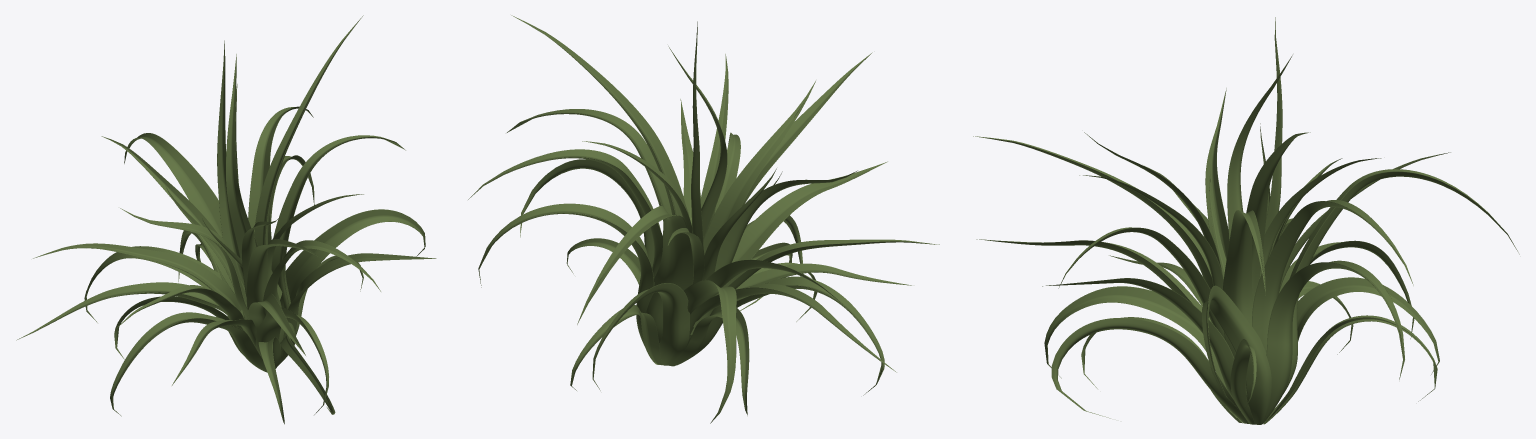
File: airplant3.gltf
3 renders of one model, left to right at view 1: azimuth 30°, elevation 25°; view 2: azimuth 150°, elevation 25°; view 3: azimuth 270°, elevation 25°, orthographic. The views are drawn at different scales.
Visible parts, largest first — view 1: Mesh_0, Mesh_1; view 2: Mesh_0, Mesh_1; view 3: Mesh_0, Mesh_1.
Part boxes in pixels (x1,y1,x2,y2): Mesh_0: [16, 15, 436, 424]; Mesh_1: [110, 230, 328, 414]; Mesh_0: [468, 15, 939, 423]; Mesh_1: [592, 215, 884, 415]; Mesh_0: [973, 17, 1519, 424]; Mesh_1: [1044, 277, 1439, 424].
Size of the model in its own units: 135 by 114 by 145.
Materials: 1 (1 with a texture image).
